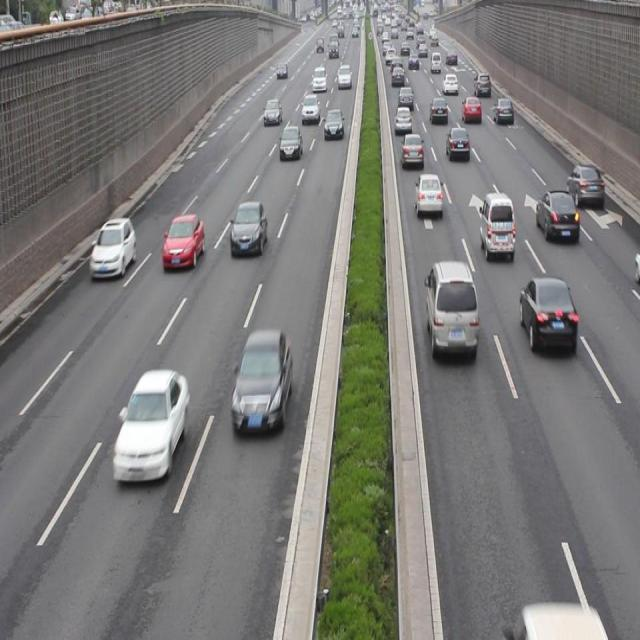car: (112, 367, 188, 483), (230, 329, 292, 434), (518, 274, 575, 355), (90, 217, 136, 278), (163, 212, 204, 270), (534, 189, 576, 244), (230, 200, 266, 257), (567, 161, 602, 210), (414, 172, 442, 217), (445, 124, 469, 162), (279, 124, 301, 162), (401, 130, 422, 167), (322, 107, 344, 142), (460, 94, 481, 125), (492, 95, 512, 126), (428, 94, 447, 124), (393, 104, 412, 134)
truck: (424, 258, 477, 356), (478, 190, 514, 258)
